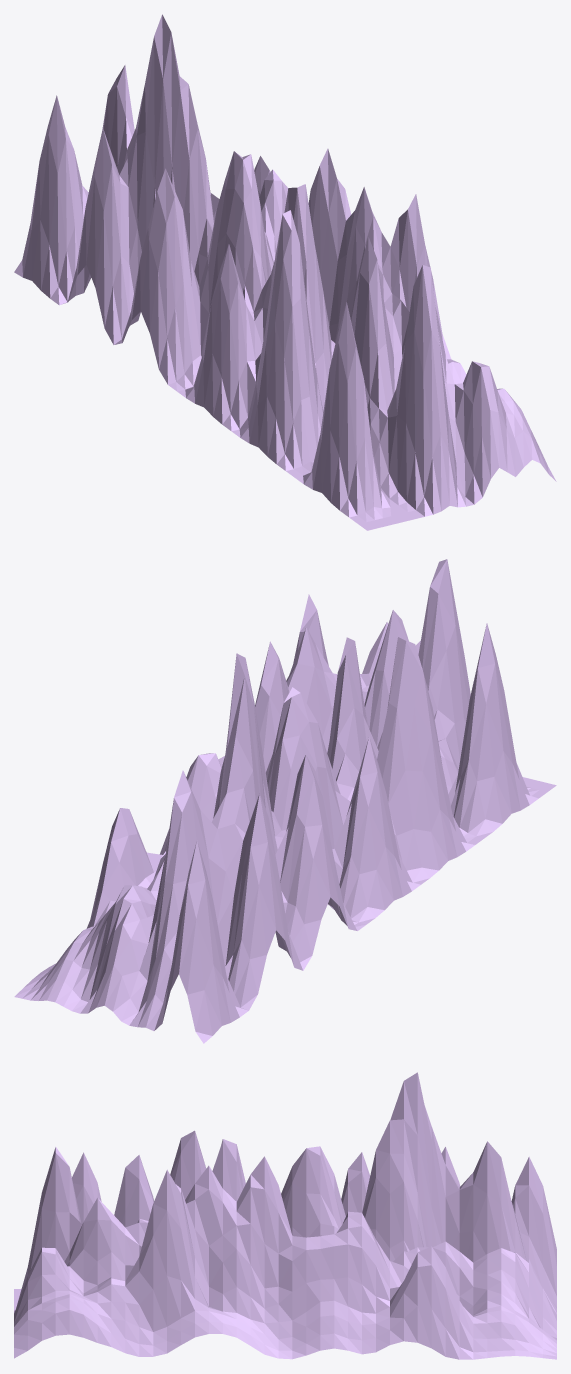
File: terrain_f.dae
3 renders of one model, top to bottom at view 1: azimuth 30°, elevation 25°; view 2: azimuth 150°, elevation 25°; view 3: azimuth 270°, elevation 25°, orthographic. The views are drawn at different scales.
Visible parts, largest first — view 1: group_10; view 2: group_10; view 3: group_10.
Part boxes in pixels (x1,y1,x2,y2): group_10: (14, 14, 556, 530); group_10: (14, 559, 556, 1043); group_10: (14, 1072, 556, 1359).
Bounding box in the file's own units: 275 × 888 × 430.
